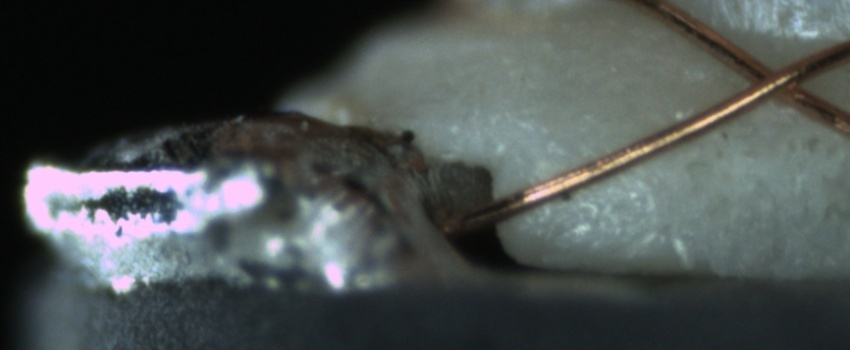CL: (725, 46, 824, 109)
